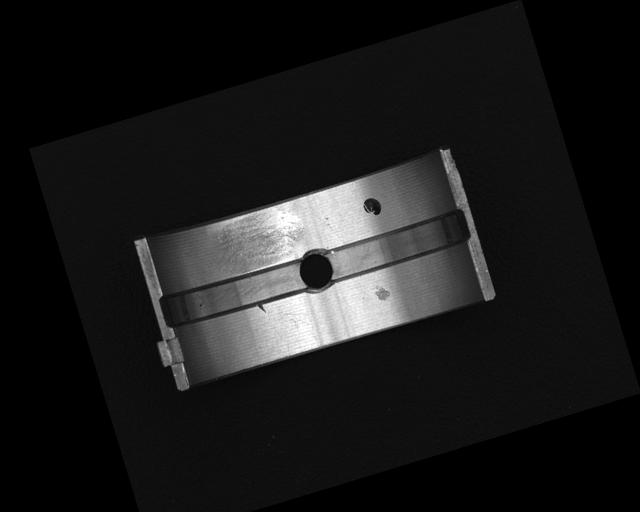blot: (360, 193, 383, 218)
bruise: (371, 282, 393, 304), (257, 302, 266, 314)
gap: (157, 253, 311, 334), (322, 206, 472, 284)
hole: (293, 244, 340, 296)
scratch: (207, 199, 313, 278)
